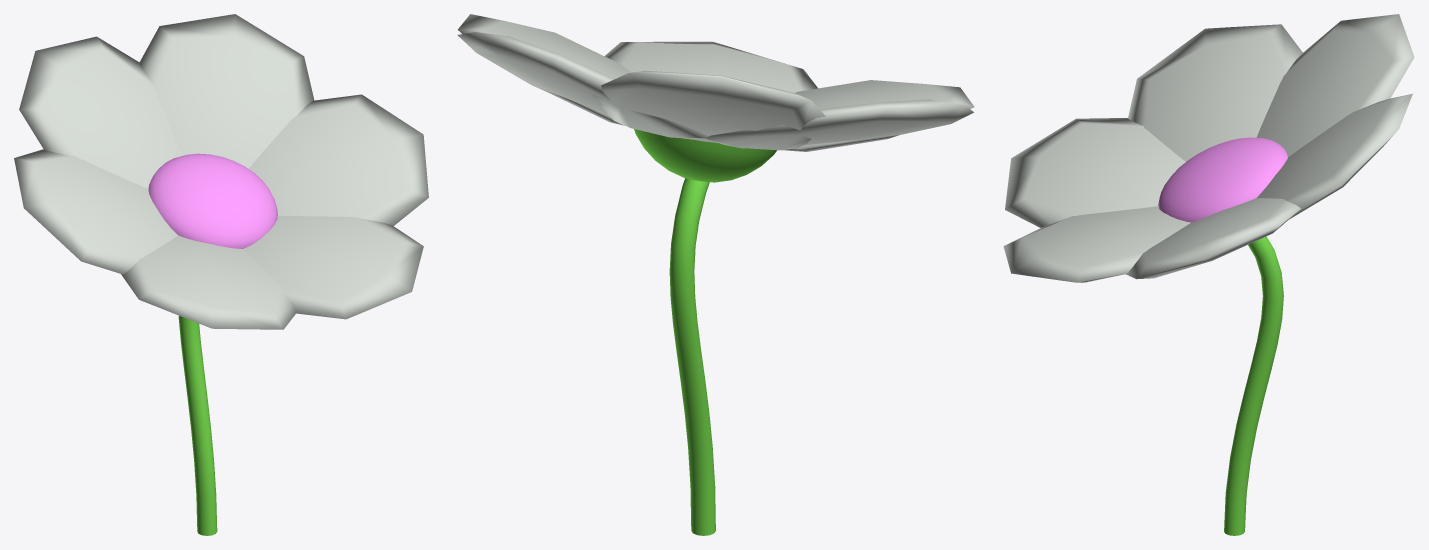
The model's file is Flower_8.fbx.
The picture shows the model from 3 angles, left to right: view 1: azimuth 30°, elevation 25°; view 2: azimuth 150°, elevation 25°; view 3: azimuth 270°, elevation 25°; orthographic projection. The views are drawn at different scales.
Visible parts, largest first — view 1: ベジエカーブ; view 2: ベジエカーブ; view 3: ベジエカーブ.
Part boxes in pixels (x1,y1,x2,y2): ベジエカーブ: (14,14,428,535); ベジエカーブ: (457,14,974,535); ベジエカーブ: (1003,14,1414,535).
Size of the model in its own units: 379 by 404 by 320.
